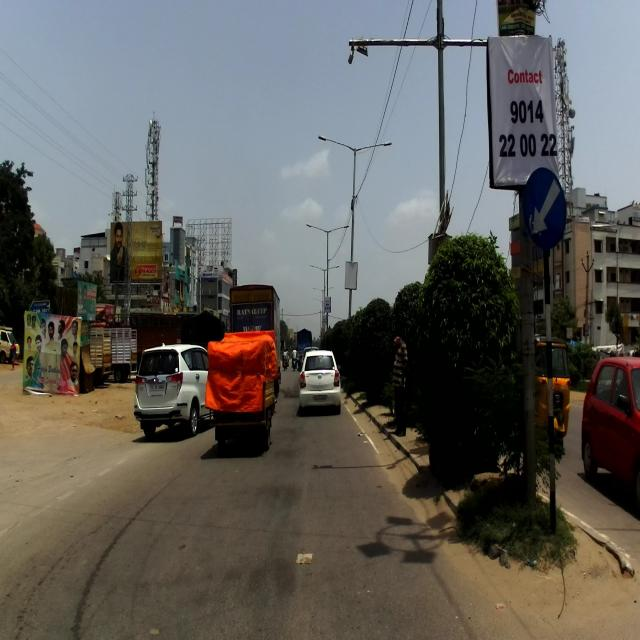Car_Maruti-Suzuki: (580, 356, 640, 490)
Car_Toyota: (134, 340, 213, 437), (298, 347, 342, 416)
autorickshaw: (205, 329, 278, 454)
